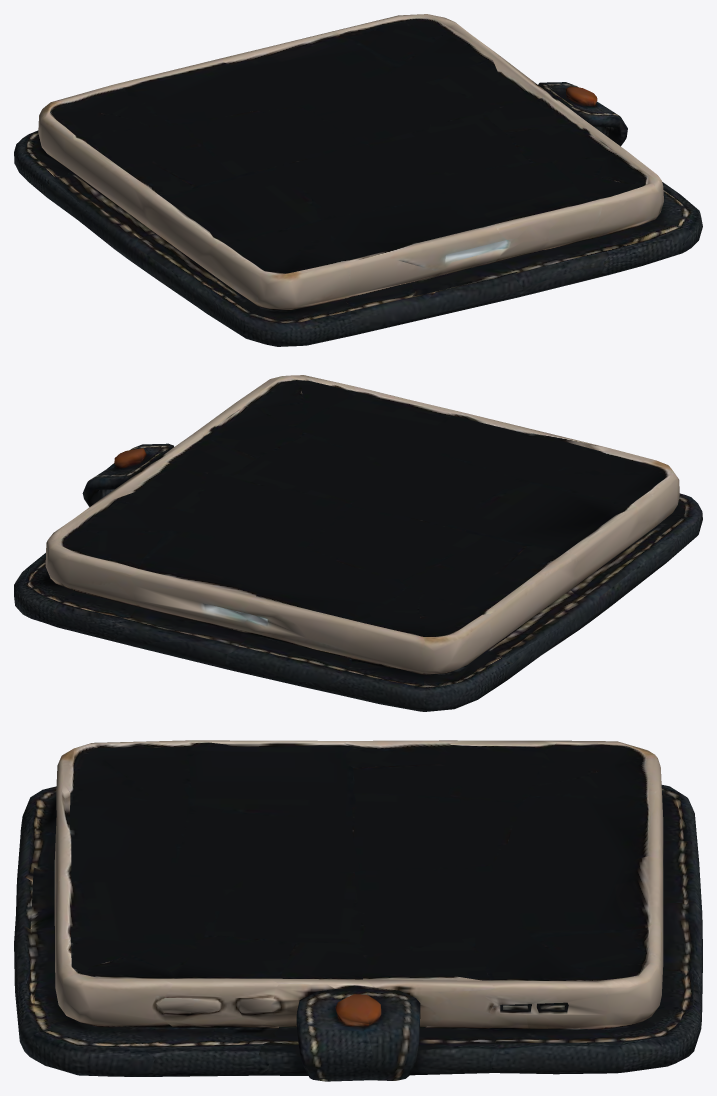
File: slate.medium.glb
3 views of the same model, one above another, from view 1: azimuth 30°, elevation 25°; view 2: azimuth 150°, elevation 25°; view 3: azimuth 270°, elevation 25° (orthographic). The views are drawn at different scales.
Parts seen in each view (by area): view 1: tripo_node_06b091ca-d2d3-42b4-b872-ccc9c1d0f15d; view 2: tripo_node_06b091ca-d2d3-42b4-b872-ccc9c1d0f15d; view 3: tripo_node_06b091ca-d2d3-42b4-b872-ccc9c1d0f15d.
Part boxes in pixels (bbox=[...]): tripo_node_06b091ca-d2d3-42b4-b872-ccc9c1d0f15d: bbox=[14, 14, 702, 346]; tripo_node_06b091ca-d2d3-42b4-b872-ccc9c1d0f15d: bbox=[14, 375, 702, 711]; tripo_node_06b091ca-d2d3-42b4-b872-ccc9c1d0f15d: bbox=[14, 740, 702, 1081].
Bounding box in the file's own units: 0.2999 × 0.0432 × 0.2992.
1 material, 1 textured.
